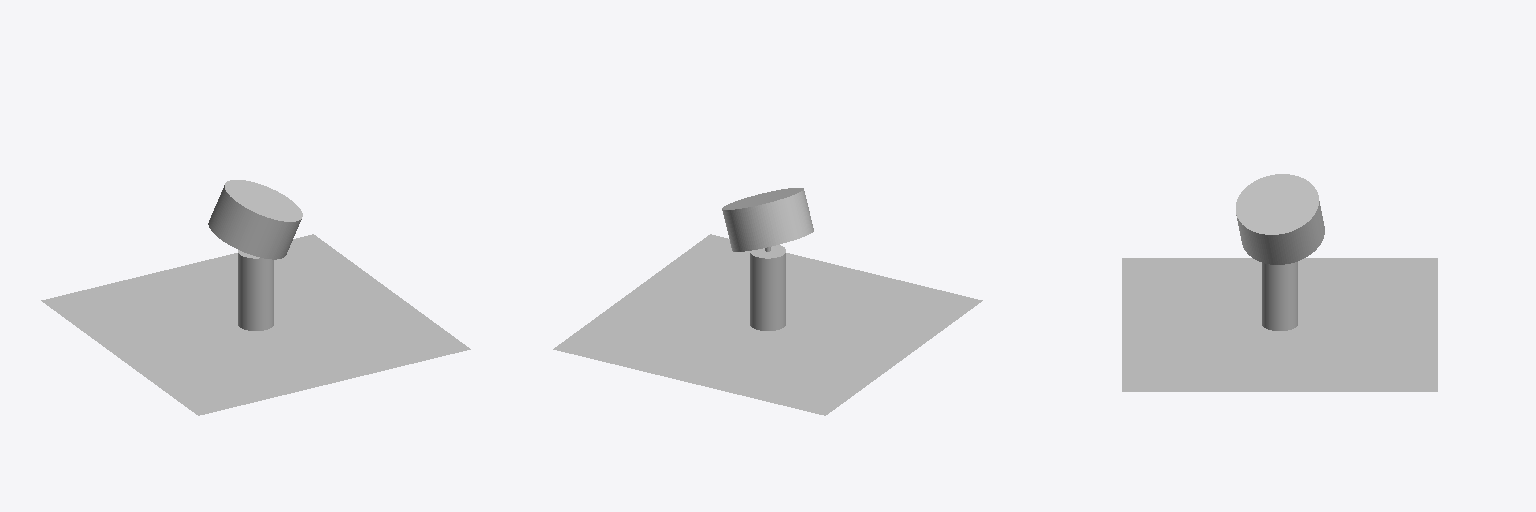
Rendered from lamp2.obj.
The picture shows the model from 3 angles: view 1: azimuth 30°, elevation 25°; view 2: azimuth 150°, elevation 25°; view 3: azimuth 270°, elevation 25°; orthographic projection.
Visible parts, largest first — view 1: Plane, Cylinder.002, Cylinder; view 2: Plane, Cylinder.002, Cylinder, Cylinder.001; view 3: Plane, Cylinder.002, Cylinder.
Part boxes in pixels (left/top/right/bottom): Plane: left=41, top=234, right=470, bottom=415; Cylinder.002: left=208, top=180, right=302, bottom=259; Cylinder: left=238, top=260, right=273, bottom=330; Plane: left=553, top=234, right=982, bottom=415; Cylinder.002: left=722, top=188, right=813, bottom=251; Cylinder: left=750, top=260, right=785, bottom=330; Cylinder.001: left=750, top=245, right=785, bottom=265; Plane: left=1122, top=258, right=1437, bottom=391; Cylinder.002: left=1236, top=174, right=1324, bottom=264; Cylinder: left=1262, top=262, right=1297, bottom=330.
Bounding box in the file's own units: 17.18 × 8.31 × 17.18.